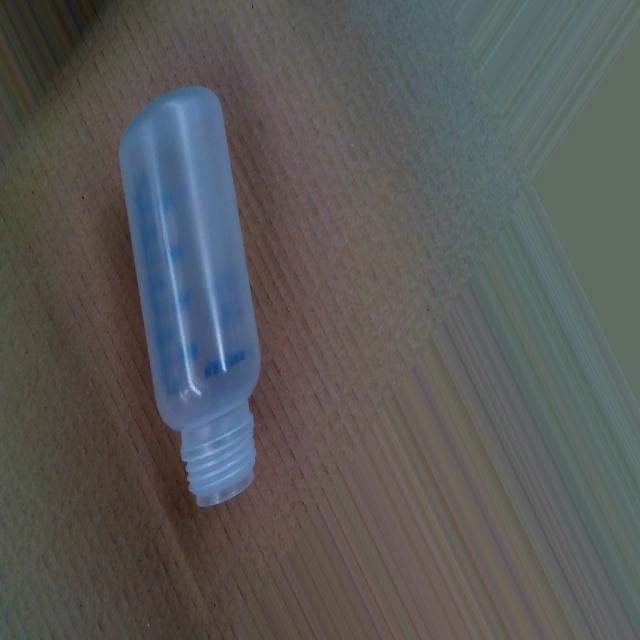bottle: (117, 79, 265, 513)
